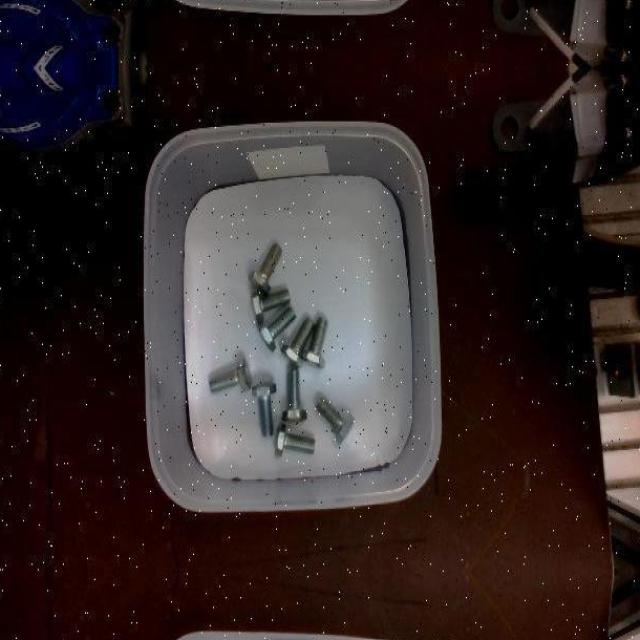screw: (316, 394, 354, 444), (281, 317, 315, 369), (248, 242, 282, 294), (259, 306, 297, 352), (209, 356, 252, 394), (252, 288, 292, 324), (302, 316, 328, 369), (275, 423, 316, 456), (253, 381, 278, 435), (282, 370, 306, 422)
